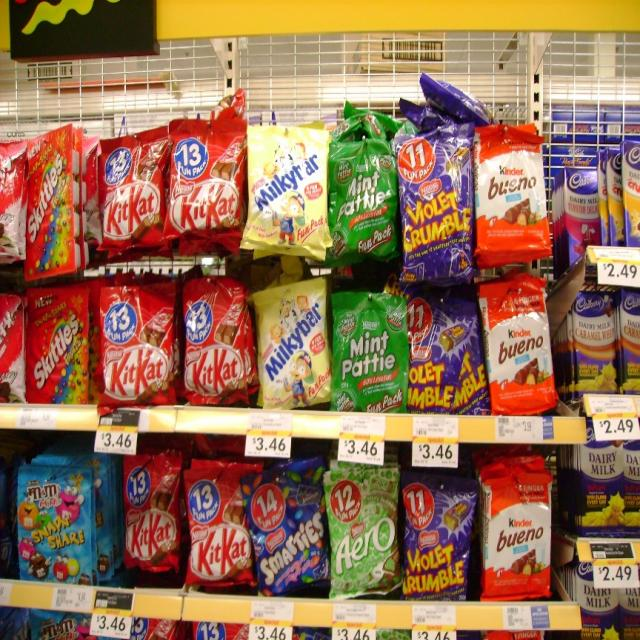q280: (97, 280, 177, 412), (174, 101, 246, 245), (97, 122, 167, 264), (184, 272, 249, 423), (122, 452, 188, 578), (193, 451, 249, 592)
